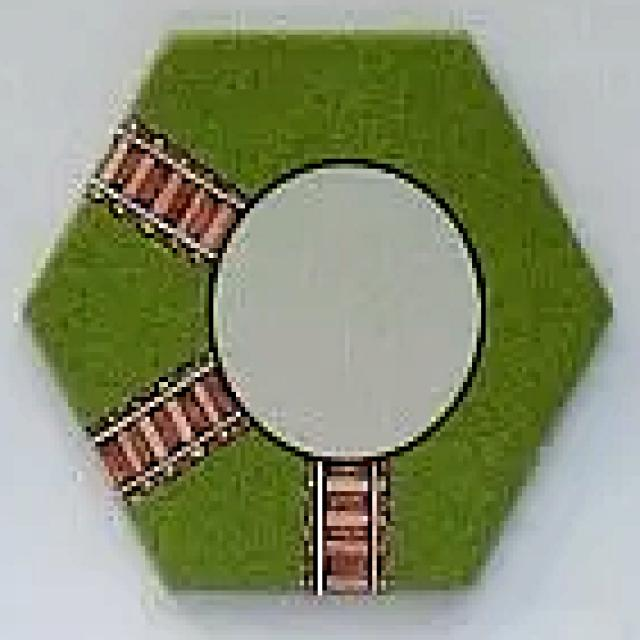12_0: (17, 28, 616, 601)
